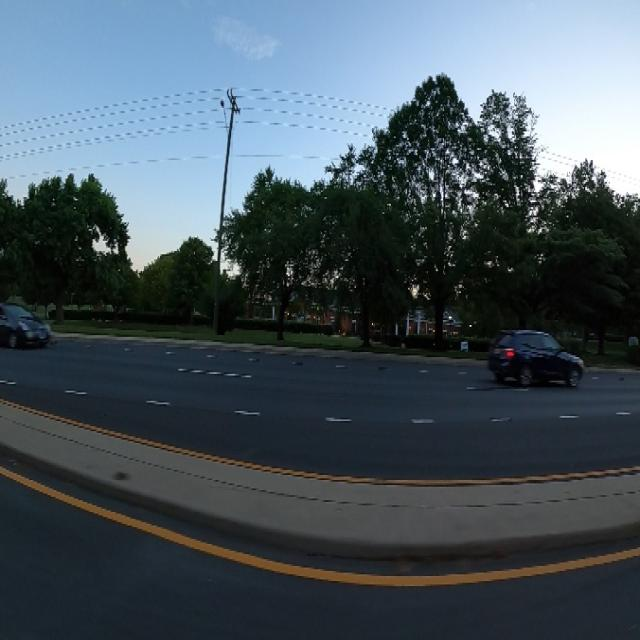cars: (482, 309, 589, 404), (0, 289, 55, 367)
